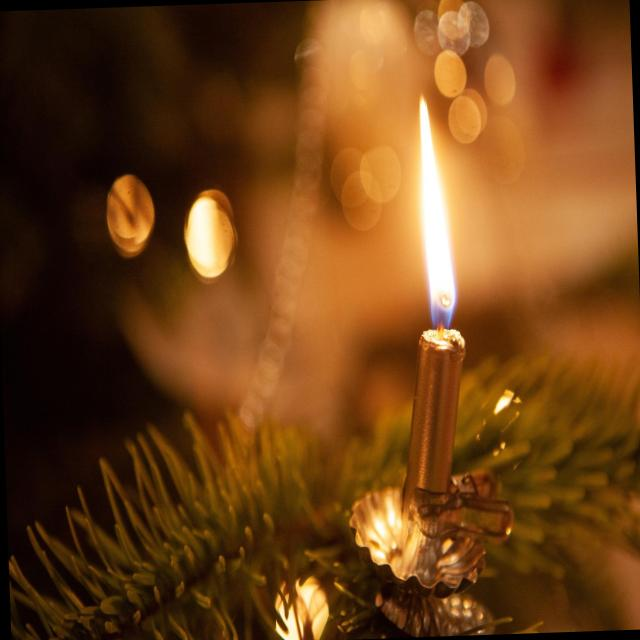Fire_Save: (333, 88, 518, 598)
